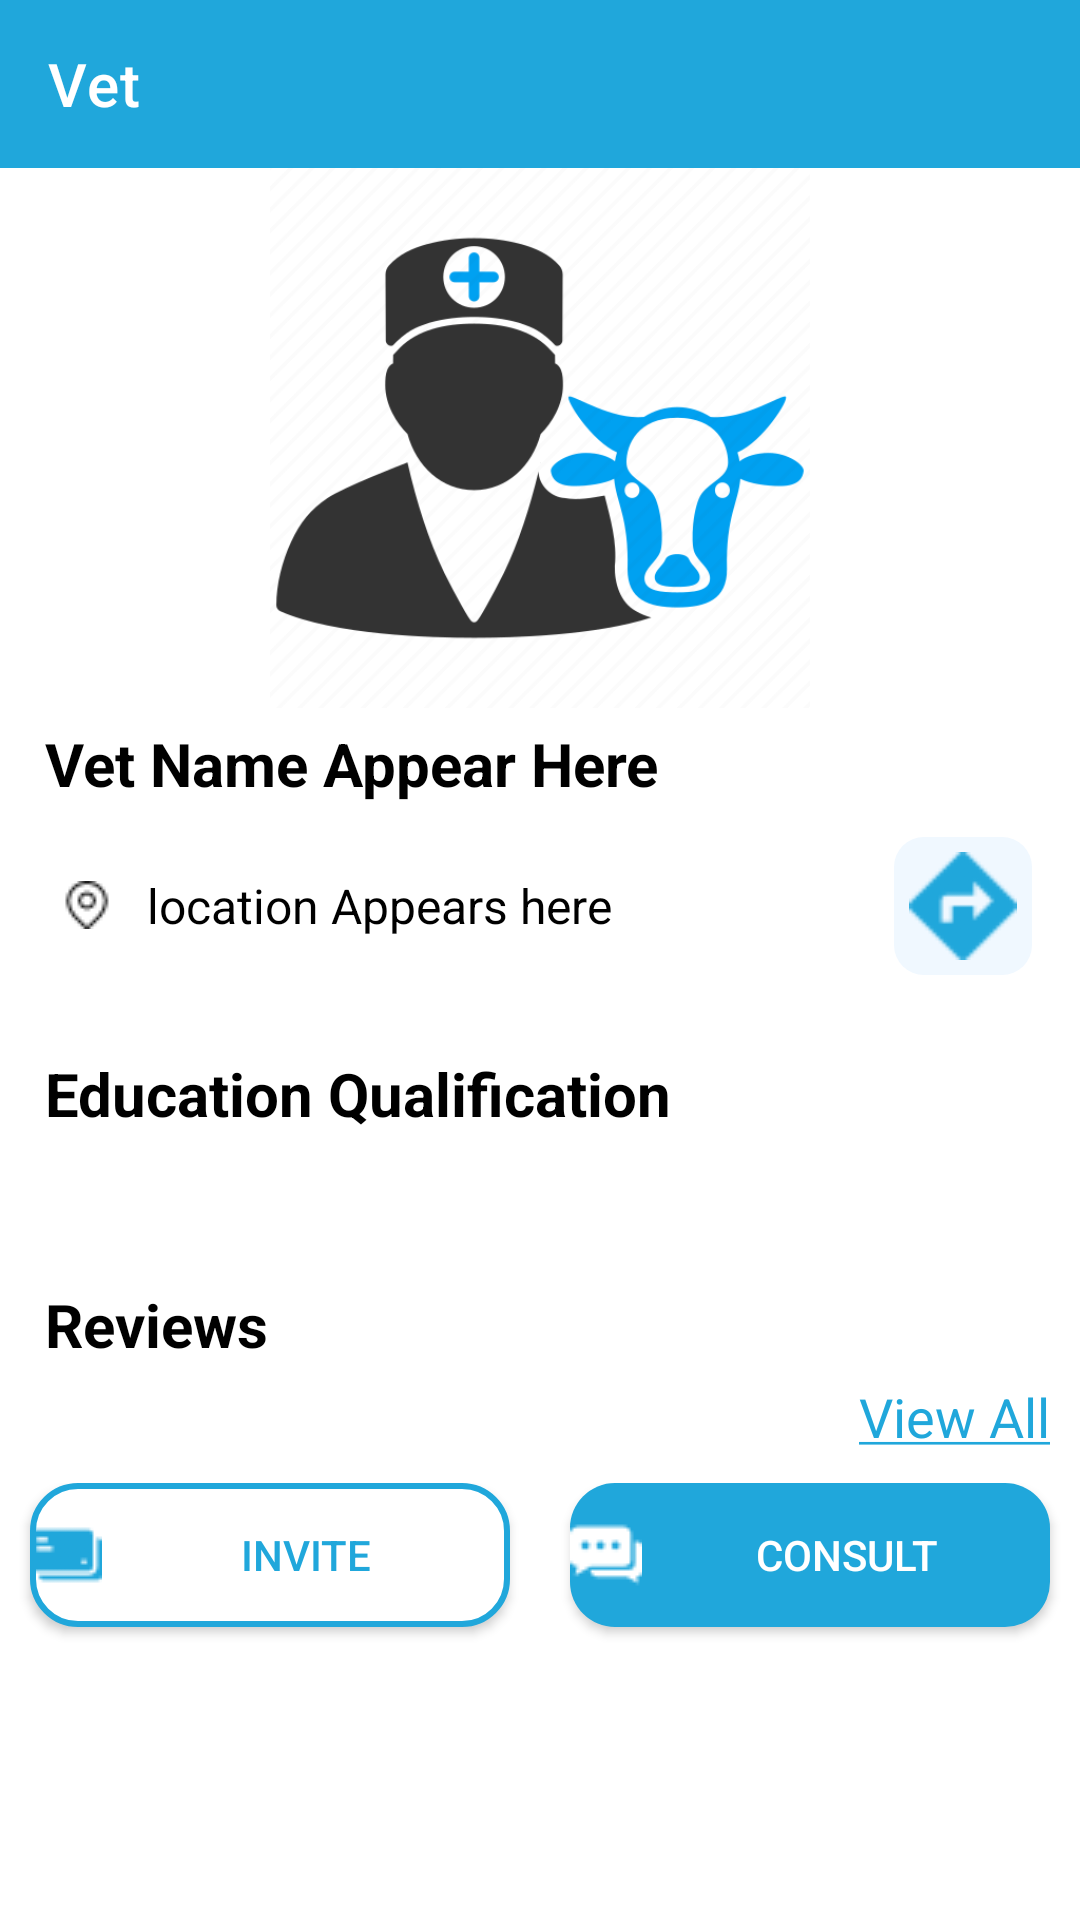

Named icons in this screenshot (1080×1920) and their centers, (x=x, y=y):
direction: (x=963, y=906)
